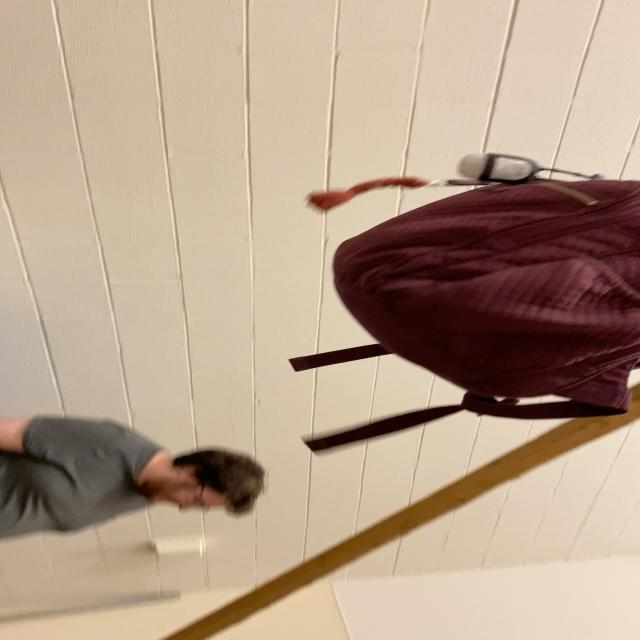Backpacks: (331, 178, 639, 416)
